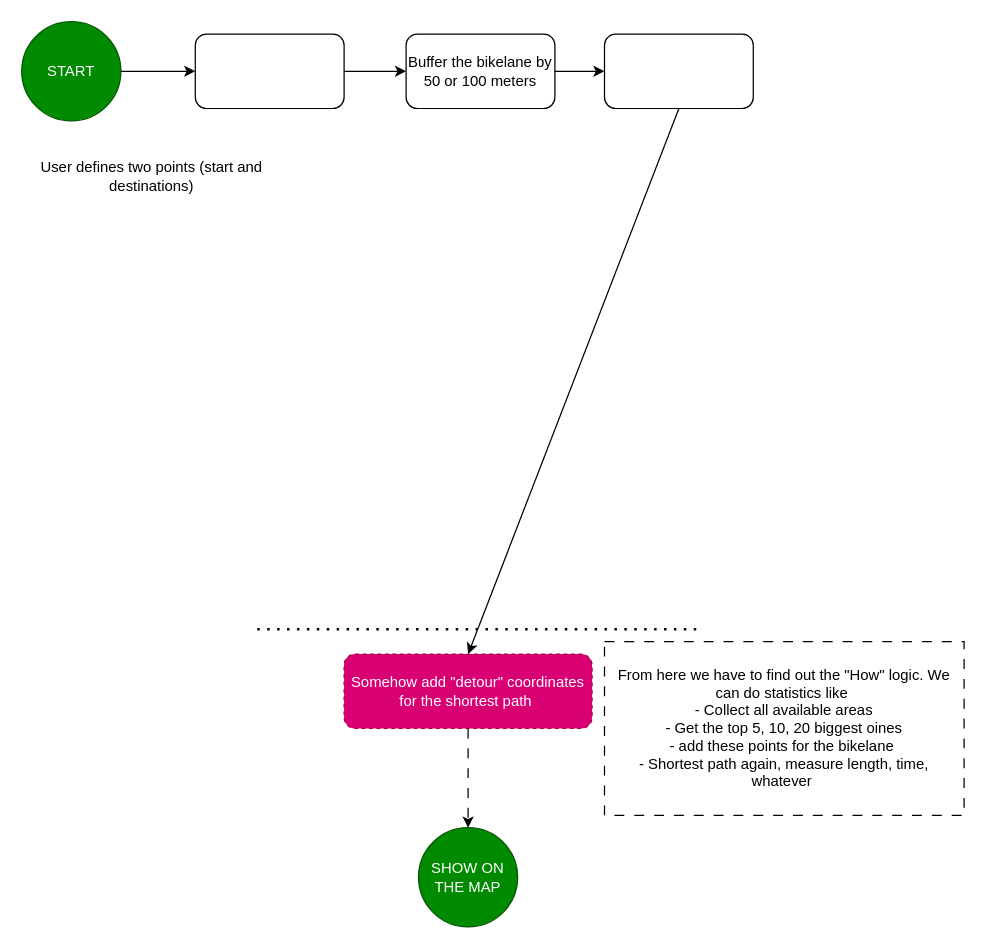
Some shapes in this 986 by 949 pixel diagram are drawn without their labels. Each missing label, with the centre of its shape:
Get shortest path between the two points: [269,70]
Get the green areas which are touched by the buffered area: [678,70]
